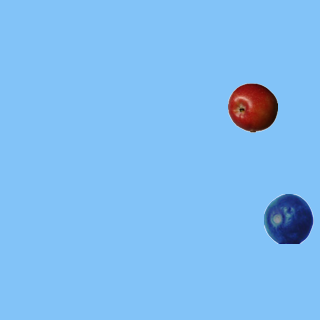Apple Braeburn: (227, 82, 277, 132)
Huckleberry: (263, 193, 313, 243)
